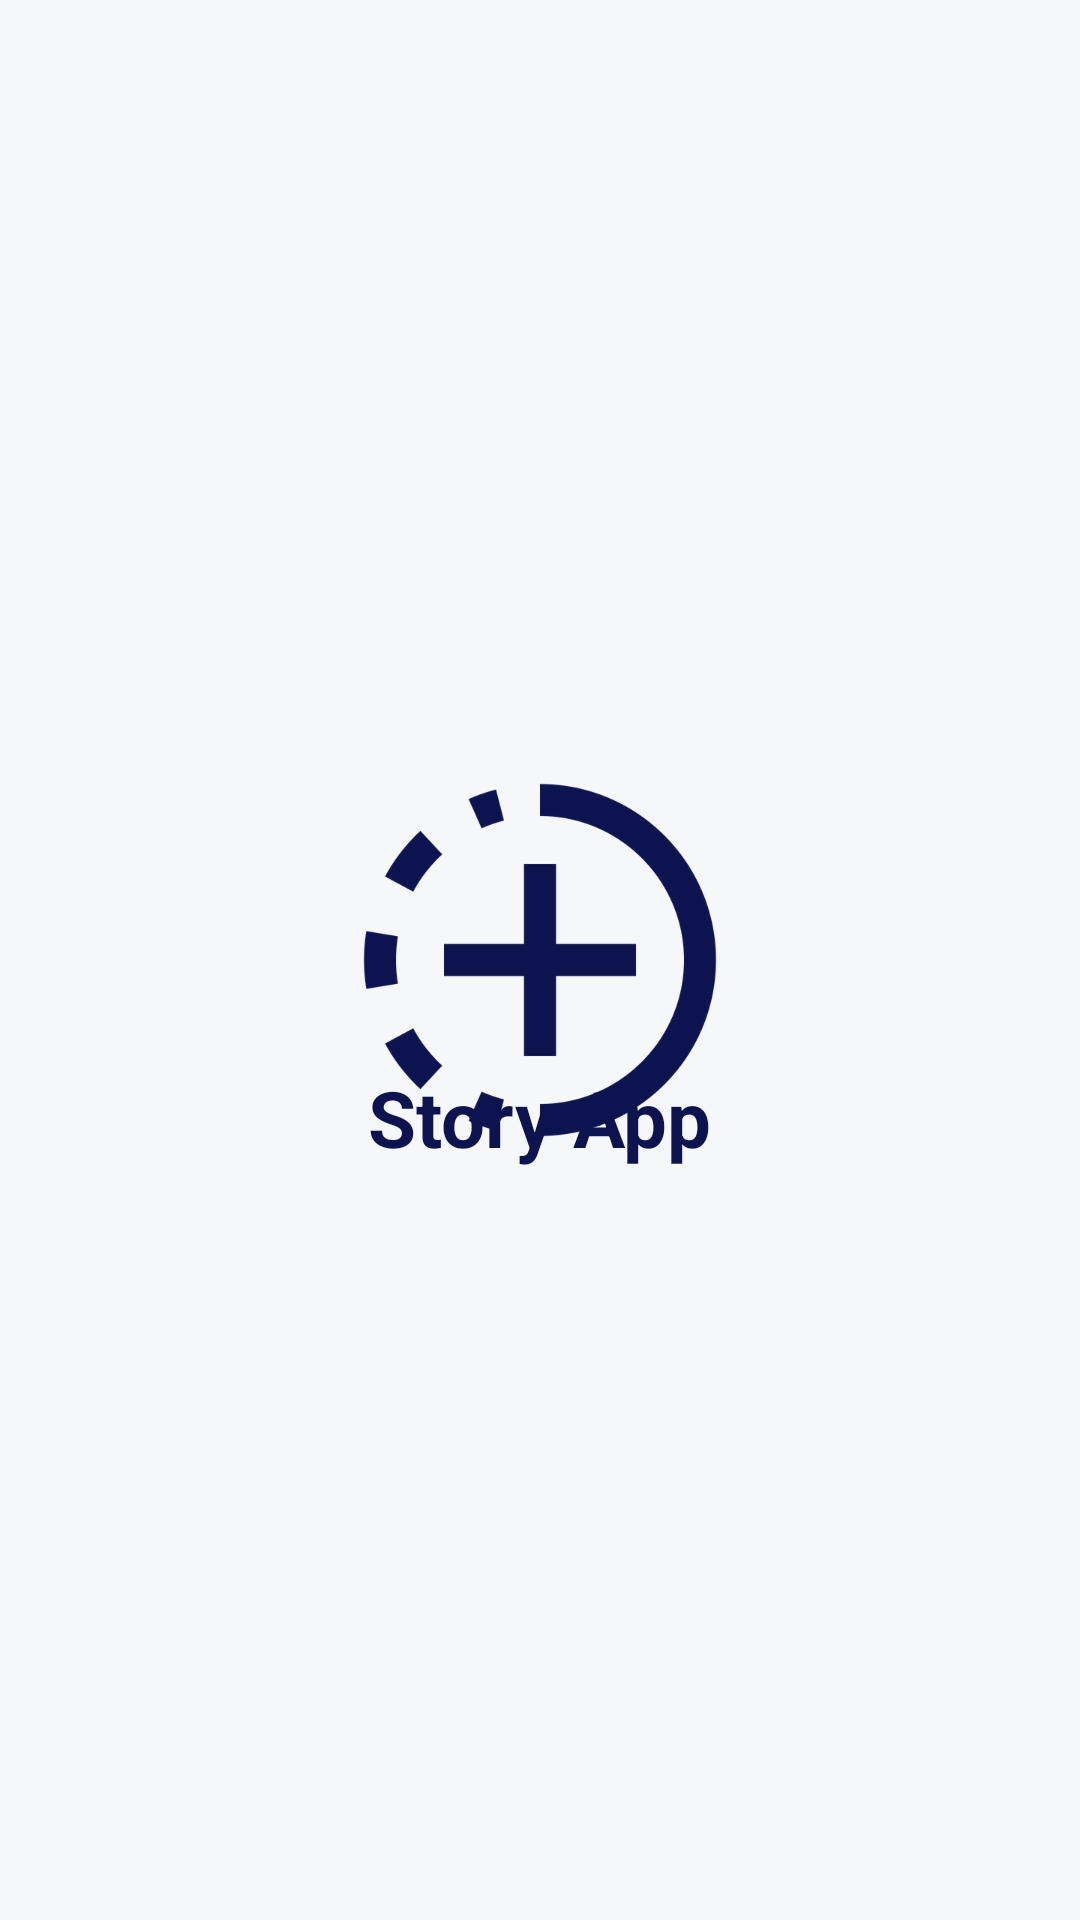

Screen size 1080x1920. Icon name, then its center in pixels as (x,y):
addstrory: (499,969)
